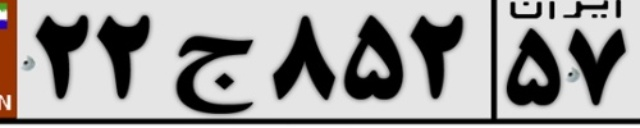2: (30, 13, 89, 100), (409, 14, 467, 100), (95, 13, 151, 99)
5: (343, 16, 404, 99), (505, 28, 562, 105)
7: (567, 28, 629, 106)
8: (270, 14, 335, 99)
jim: (176, 34, 259, 115)
